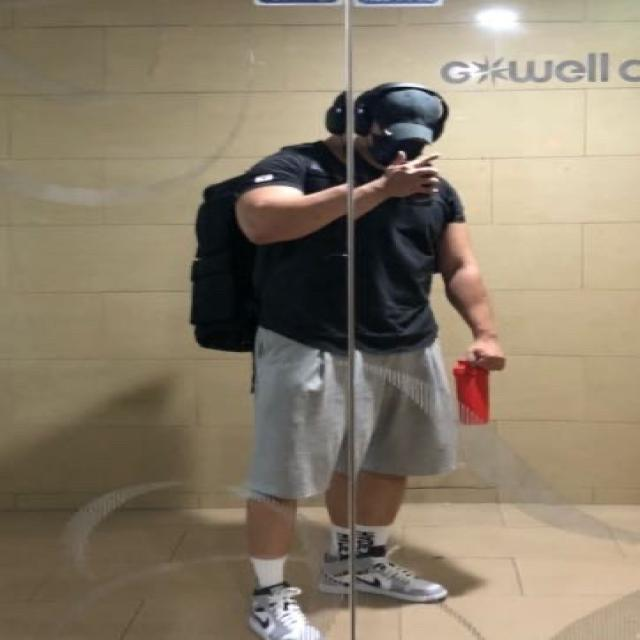shortpants: (250, 322, 457, 500)
shortsleeve: (236, 140, 469, 354)
